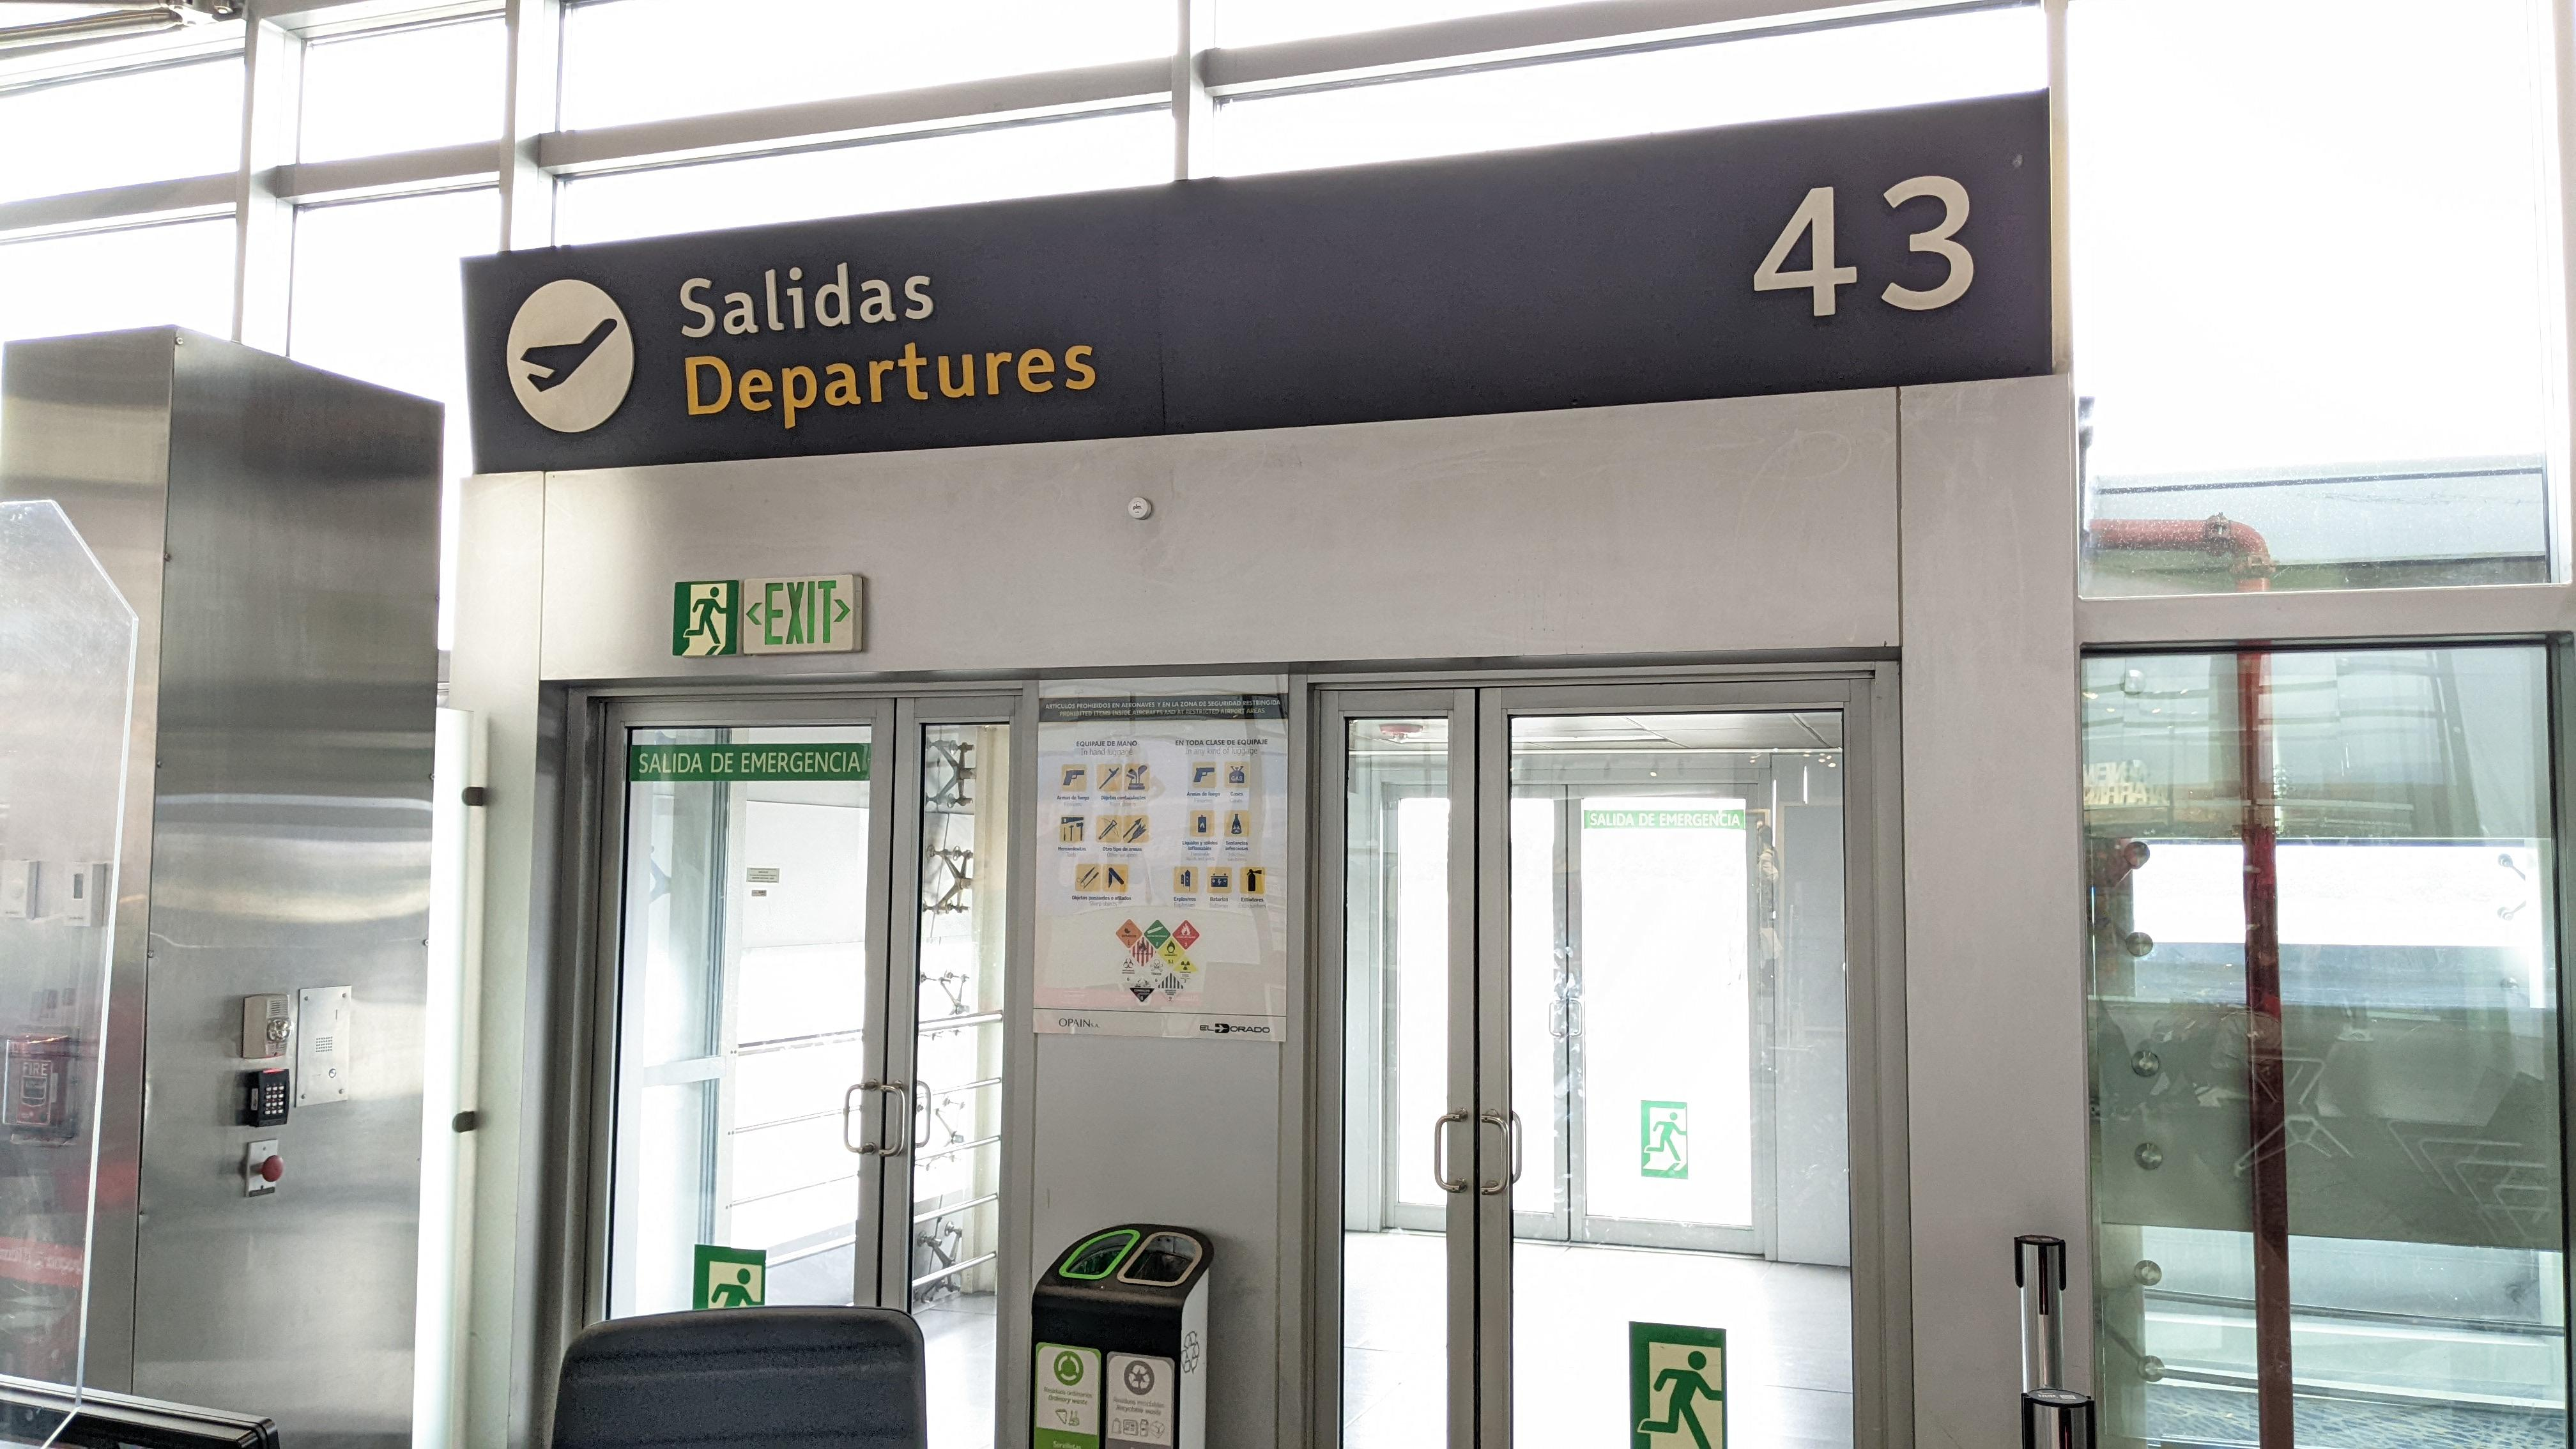airplane symbol: (516, 311, 622, 401)
emergency exit: (1626, 1335, 1728, 1449), (700, 1248, 763, 1312), (680, 579, 731, 658), (1639, 1097, 1687, 1177)
